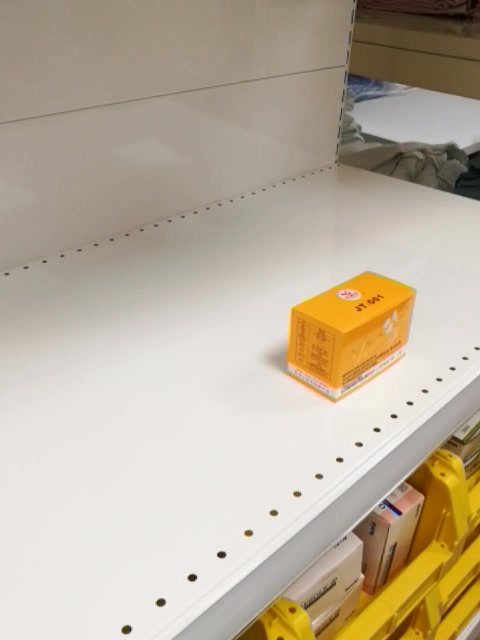jasminetea: (281, 269, 419, 405)
